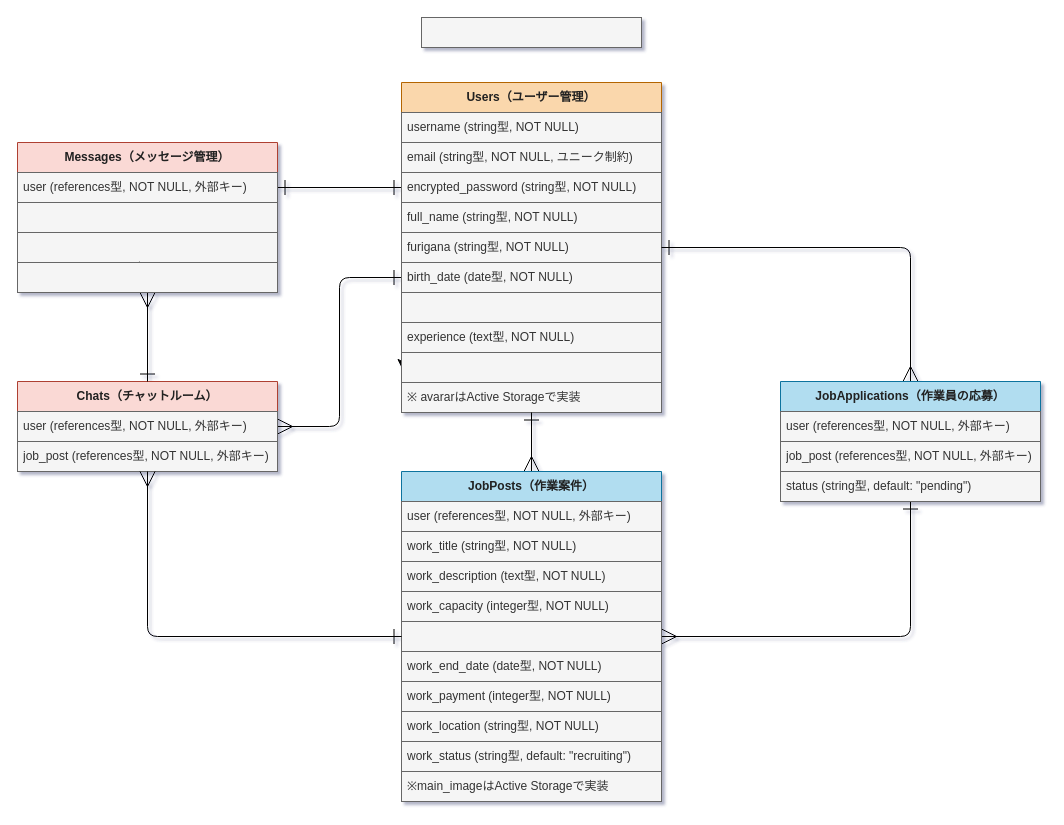
The diagram is 1064 pixels wide and 825 high, and some of its shapes have lost their labels. The centre of each missing label's shape, as x and y in pixels:
chat (references型, NOT NULL, 外部キー): the point at 147,217
content (text型): the point at 147,247
qualification (string型, NOT NULL): the point at 531,367
role (json型, NOT NULL): the point at 531,307
WakwakWorks ER図: the point at 531,32
work_start_date (date型, NOT NULL): the point at 531,636
※ image,fileはActive Storageで実装: the point at 147,277
